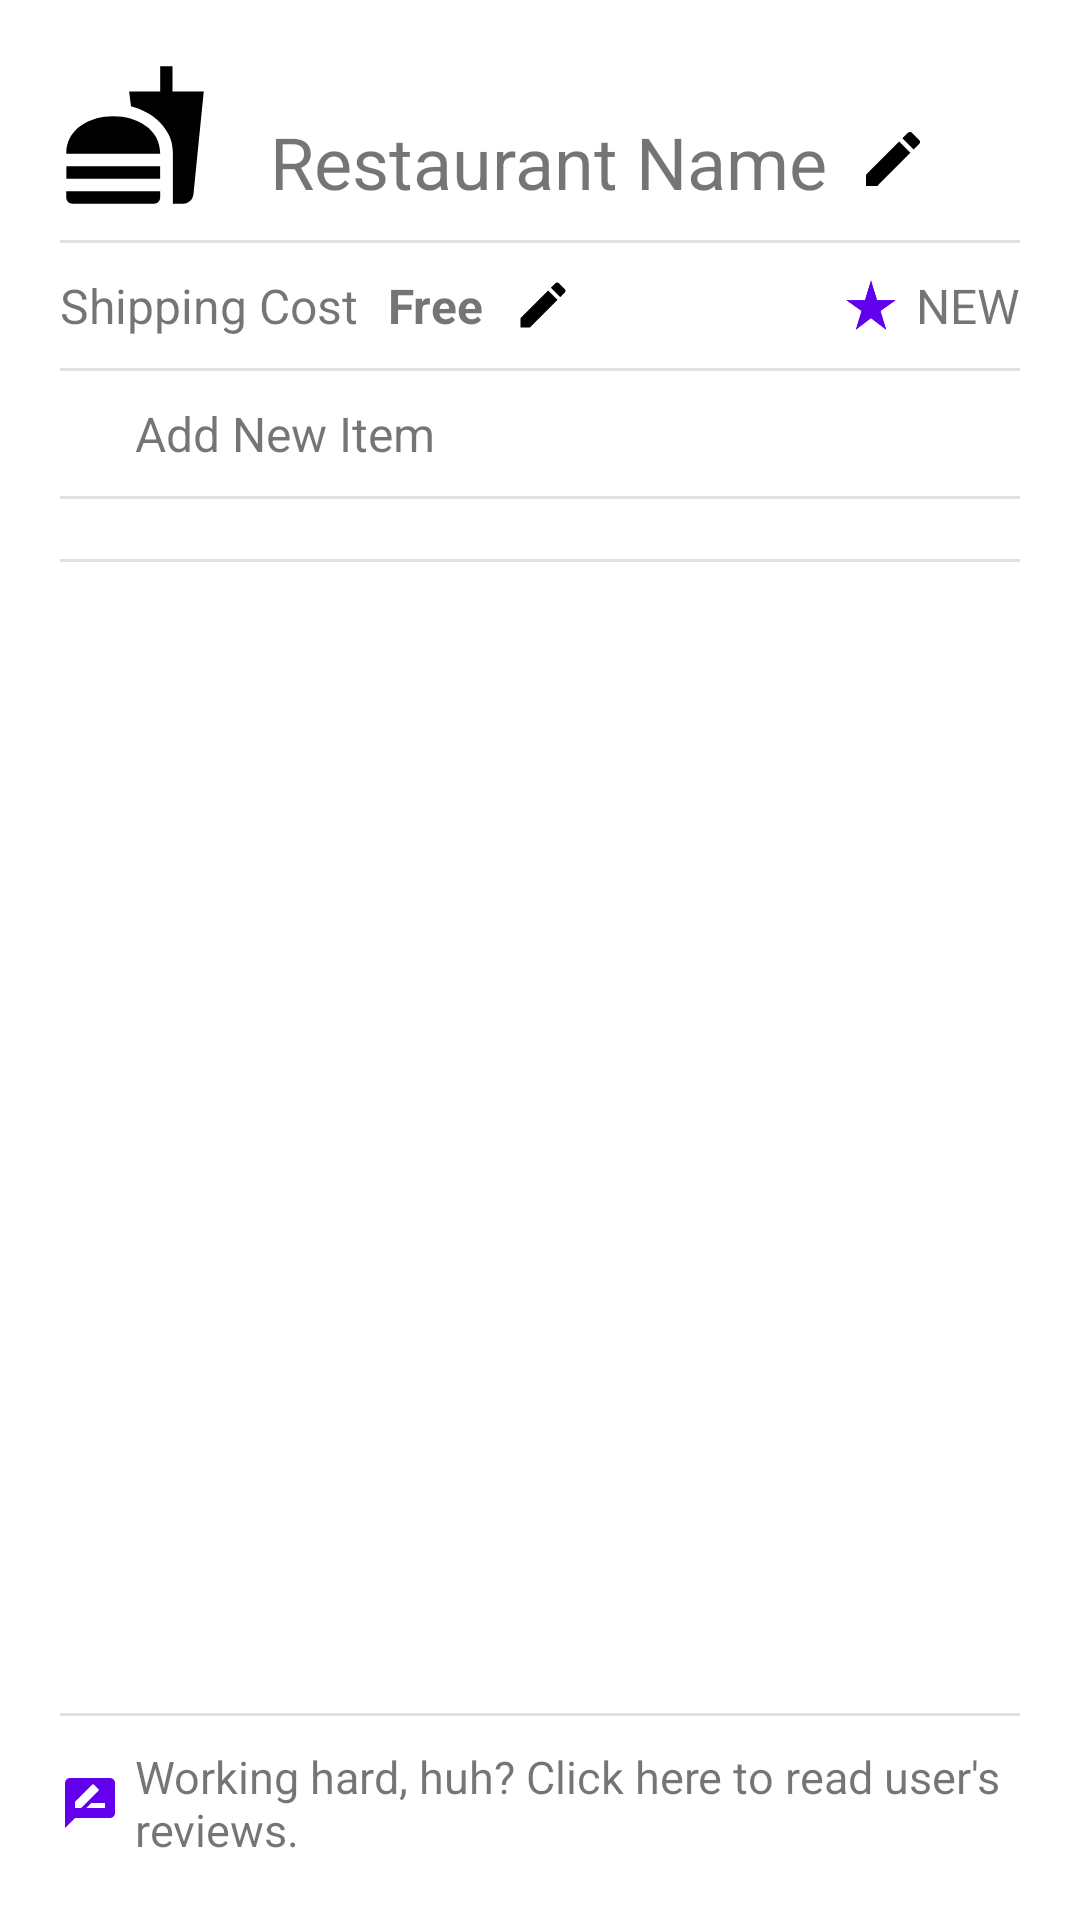

Icon click points for this 1080*1920 phone screenshot, format [x,y]:
edit: [893,159], [543,305]
star: [871,305]
